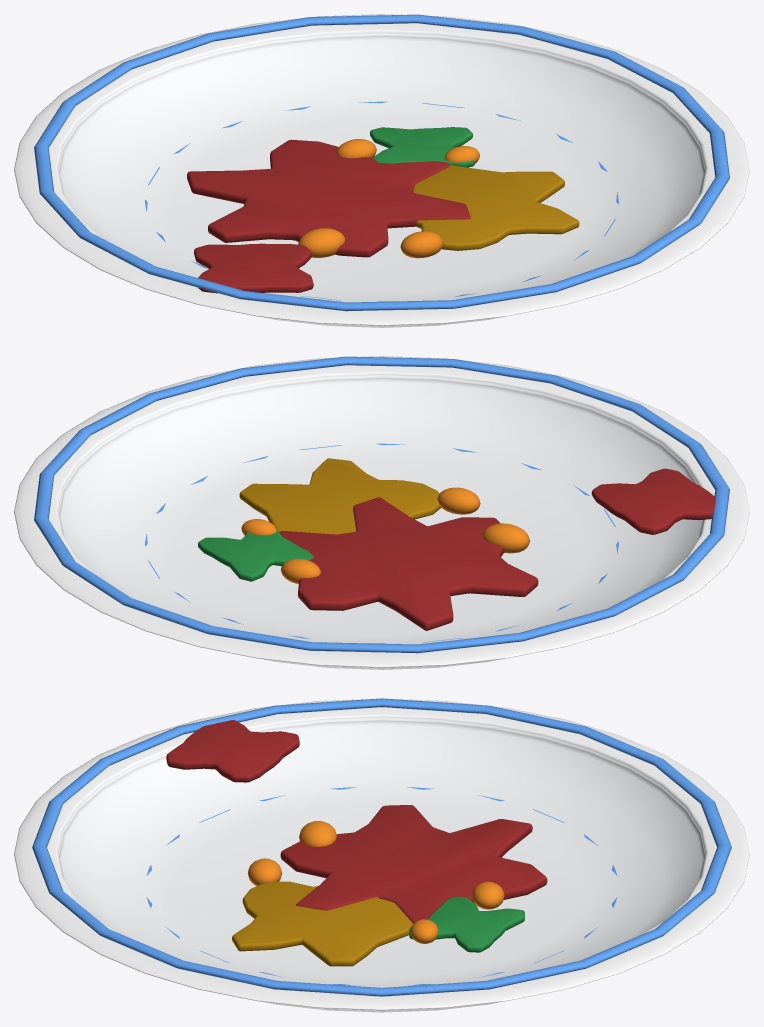
File: plate_dirty.gltf
3 renders of one model, top to bottom at view 1: azimuth 30°, elevation 25°; view 2: azimuth 150°, elevation 25°; view 3: azimuth 270°, elevation 25°, orthographic.
Parts seen in each view (by area): view 1: PlateBody; view 2: PlateBody; view 3: PlateBody.
Boxes of the visible parts, x1,y1,x2,y2 form: PlateBody: [14, 14, 749, 327]; PlateBody: [14, 356, 749, 669]; PlateBody: [14, 698, 749, 1012].
Bounding box in the file's own units: 0.6919 × 0.0722 × 0.6919.
